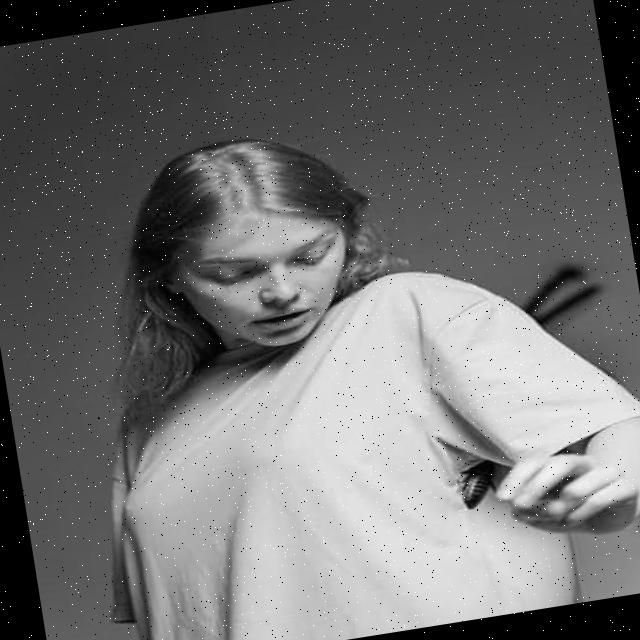Fear: (180, 200, 357, 360)
